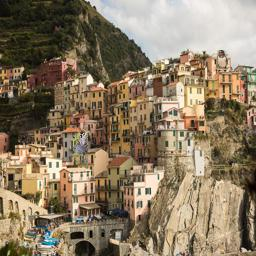Sparrow: (73, 129, 88, 169)
Swallow: (217, 50, 227, 70)
